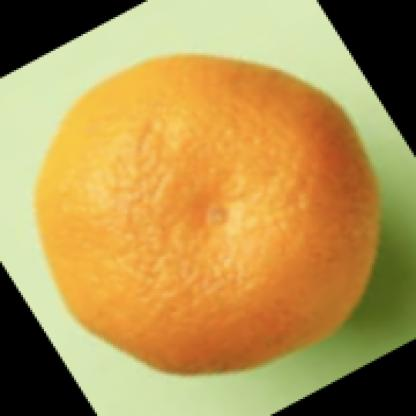fresh: (35, 54, 383, 377)
